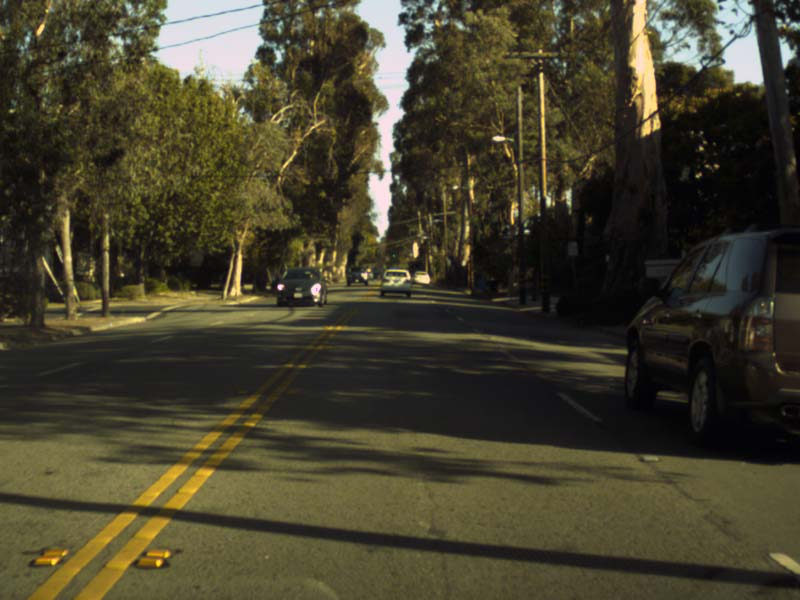Green: (391, 250, 396, 257)
